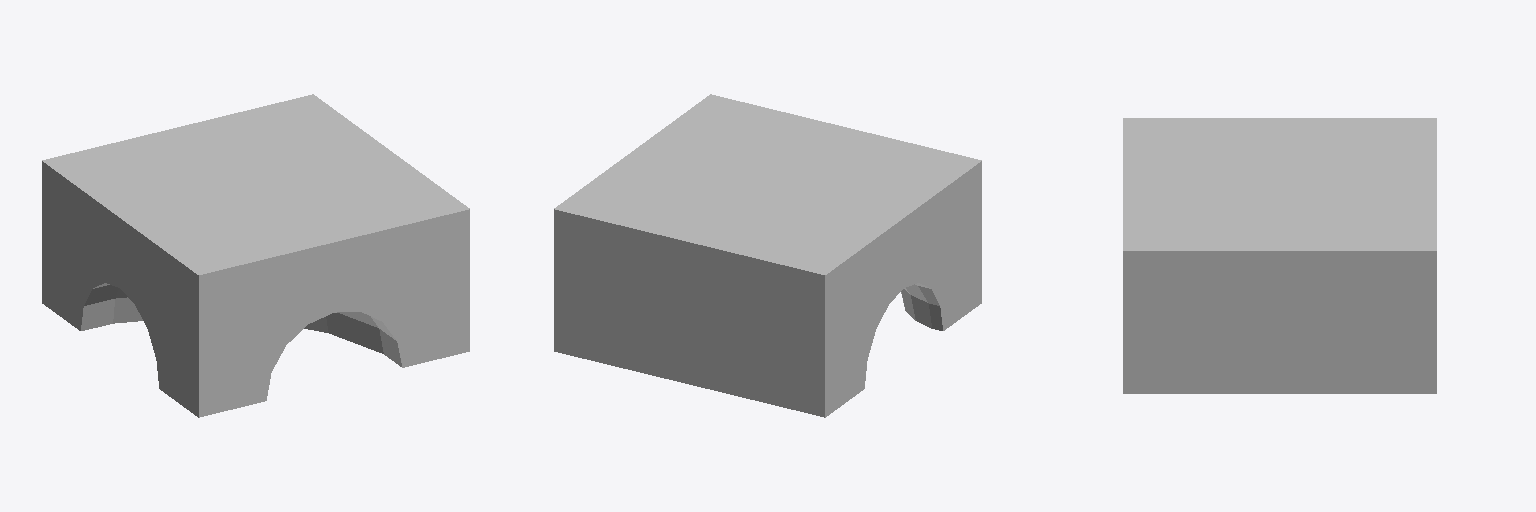
The model's file is 3_steps_top_curved.obj.
The picture shows the model from 3 angles: view 1: azimuth 30°, elevation 25°; view 2: azimuth 150°, elevation 25°; view 3: azimuth 270°, elevation 25°; orthographic projection.
Visible parts, largest first — view 1: object1; view 2: object1; view 3: object1.
Part boxes in pixels (x1,y1,x2,y2): object1: (42,94,469,417); object1: (554,94,981,417); object1: (1123,118,1436,393).
Bounding box in the file's own units: 2 × 1 × 2.